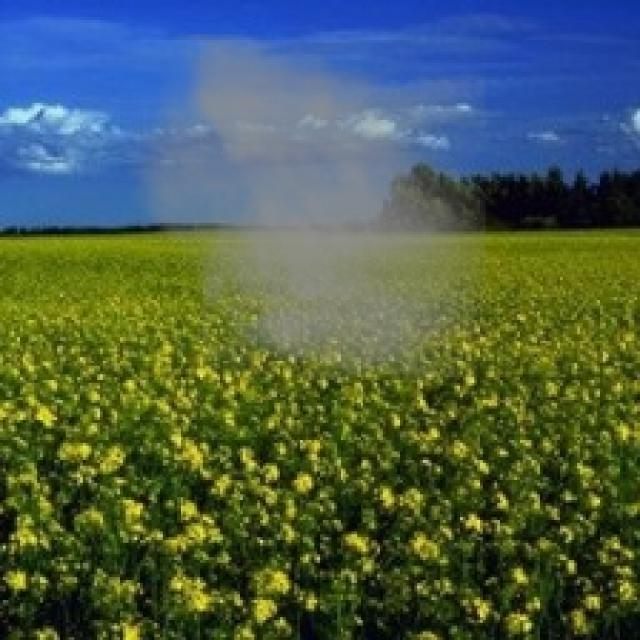smoke: (117, 34, 486, 383)
